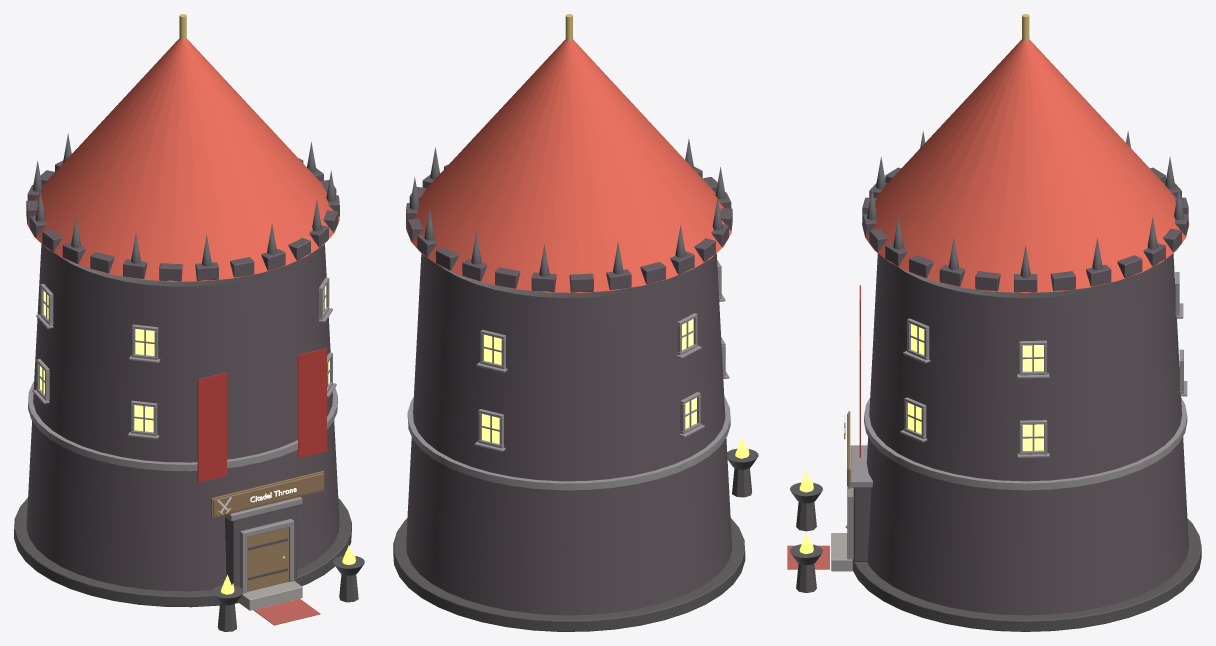
The model's file is citadel_throne.fbx.
3 renders of one model, left to right at view 1: azimuth 30°, elevation 25°; view 2: azimuth 150°, elevation 25°; view 3: azimuth 270°, elevation 25°, orthographic. The views are drawn at different scales.
Visible parts, largest first — view 1: citadel_throne; view 2: citadel_throne; view 3: citadel_throne.
Part boxes in pixels (x1,y1,x2,y2): citadel_throne: (14, 14, 364, 631); citadel_throne: (393, 14, 758, 631); citadel_throne: (787, 14, 1201, 631).
Bounding box in the file's own units: 16.4 × 27.86 × 19.3.
